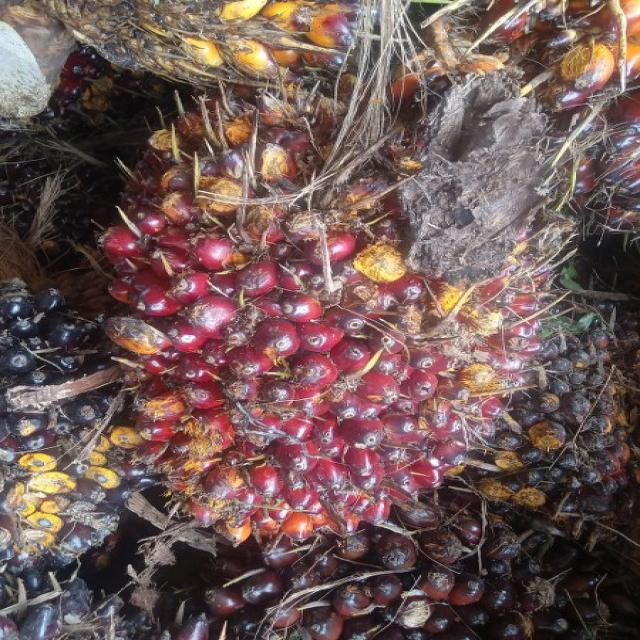fraksi 1: (53, 34, 577, 559)
